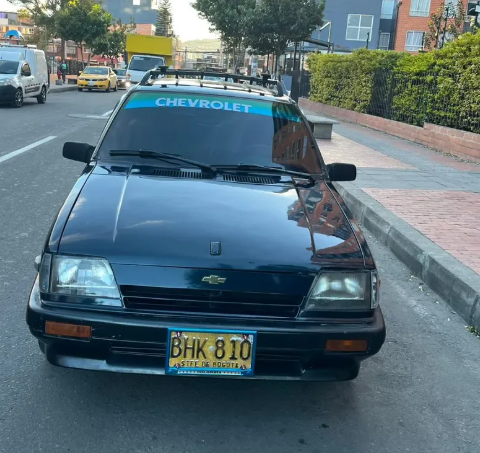placa: (169, 326, 254, 378)
